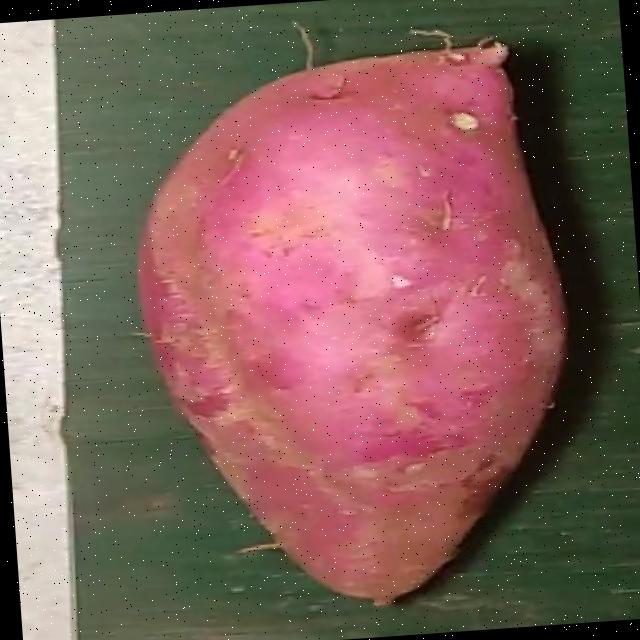Sweet Potato: (136, 36, 560, 598)
